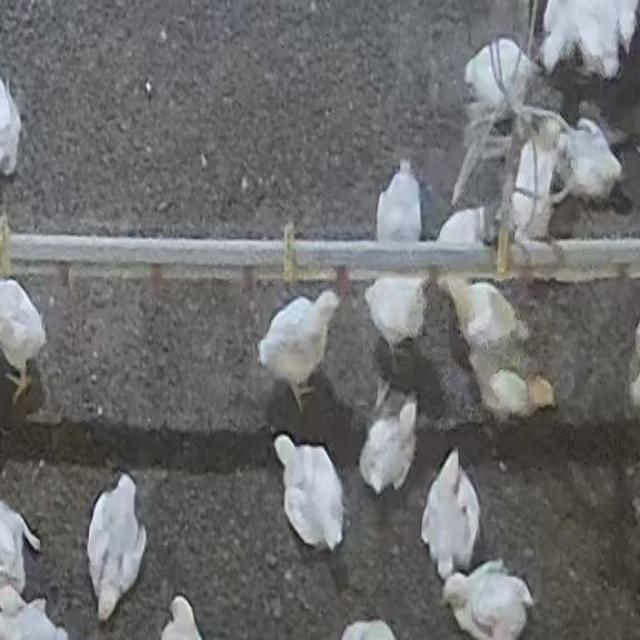chicken: (80, 474, 146, 620), (252, 292, 338, 402), (270, 433, 348, 550), (464, 342, 564, 422), (435, 563, 536, 640), (421, 446, 478, 575), (544, 119, 624, 202), (356, 392, 420, 489), (363, 273, 428, 358), (463, 38, 534, 114), (453, 279, 522, 354), (374, 163, 425, 258)
